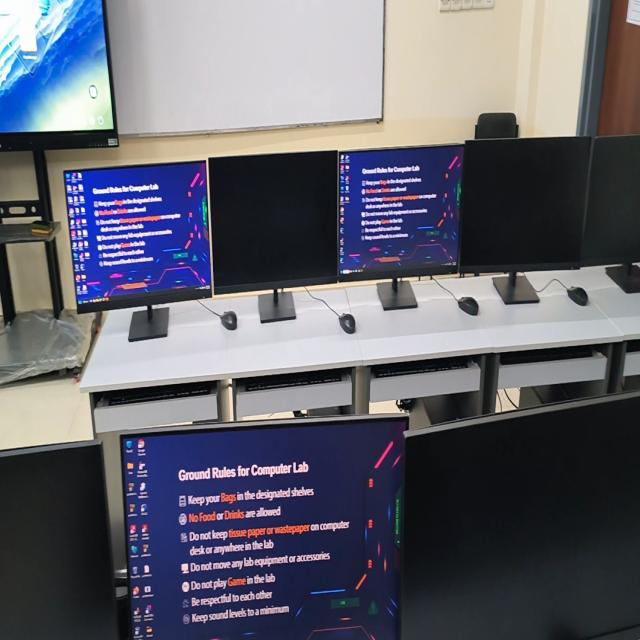Chair: (475, 113, 518, 139), (115, 569, 129, 639)
Cpu: (409, 395, 459, 430), (519, 385, 570, 408), (307, 406, 351, 417)
Digital board: (0, 0, 118, 384)
Keyboard: (100, 382, 216, 406), (238, 371, 344, 391), (371, 359, 472, 378), (500, 346, 594, 365)
Monitor: (122, 419, 405, 639), (401, 396, 640, 639), (64, 161, 211, 341), (0, 441, 120, 639), (208, 151, 338, 322), (459, 137, 590, 303), (339, 145, 463, 310), (581, 136, 640, 292)
Mouse: (567, 287, 588, 306), (458, 297, 478, 315), (339, 313, 355, 334), (220, 311, 237, 330)
